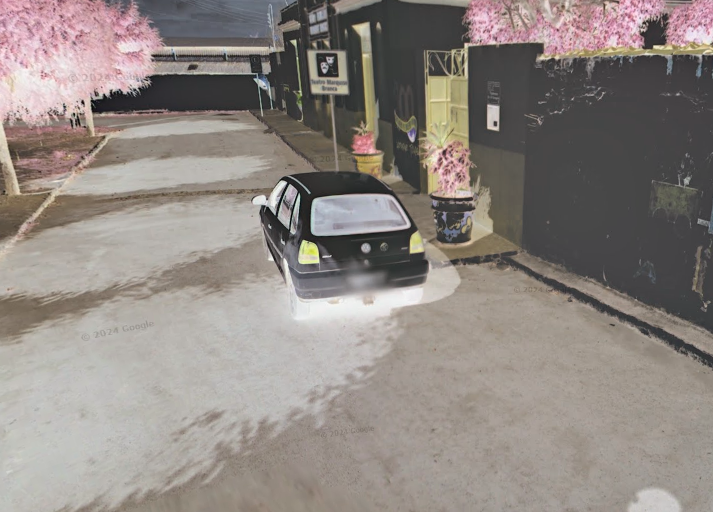car: (250, 168, 433, 329)
